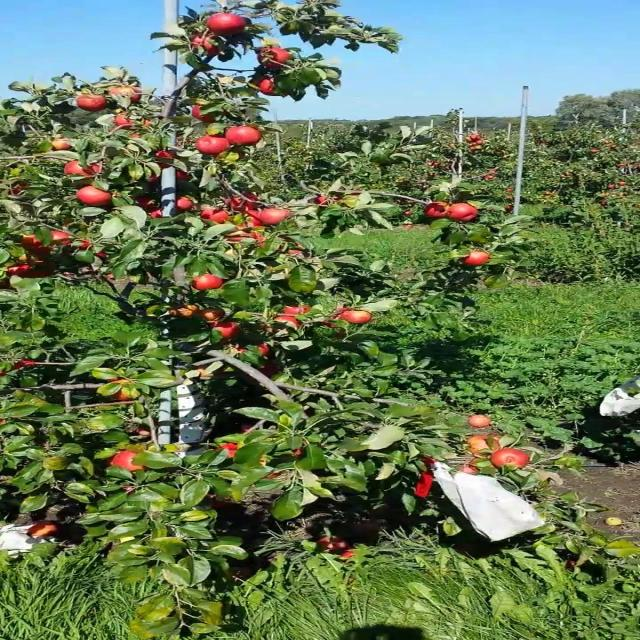apple: (207, 12, 247, 35), (256, 45, 291, 69), (467, 434, 504, 456), (489, 448, 529, 468), (224, 125, 262, 145), (109, 450, 144, 471), (196, 135, 231, 155), (76, 186, 111, 206), (224, 192, 258, 212), (20, 234, 53, 254), (251, 75, 282, 96), (224, 192, 258, 211), (191, 34, 220, 56), (447, 202, 478, 222), (64, 160, 102, 176), (258, 208, 291, 225), (109, 85, 142, 102), (27, 521, 60, 538), (76, 94, 107, 112), (251, 75, 278, 95), (191, 274, 224, 290), (213, 320, 240, 339), (240, 342, 271, 357), (27, 261, 56, 277), (278, 236, 302, 255), (424, 201, 449, 219), (191, 104, 216, 122), (198, 361, 224, 378), (200, 209, 229, 224), (340, 310, 371, 324), (462, 250, 489, 266), (273, 315, 302, 329), (169, 304, 200, 317), (133, 195, 158, 211), (7, 262, 33, 277), (156, 150, 176, 169), (198, 308, 224, 322), (258, 362, 282, 377), (113, 388, 140, 401), (224, 230, 251, 243), (467, 414, 491, 428), (244, 210, 262, 228), (218, 442, 238, 458), (113, 112, 133, 128), (340, 191, 360, 207), (176, 196, 196, 211), (51, 136, 71, 151), (460, 459, 480, 474), (282, 305, 311, 315), (52, 230, 71, 245), (9, 182, 29, 194), (244, 209, 260, 224), (249, 232, 264, 247), (73, 239, 93, 250), (333, 305, 349, 318), (258, 342, 271, 356), (322, 319, 340, 329), (313, 195, 329, 205), (106, 377, 130, 383), (176, 170, 189, 181), (284, 249, 304, 256), (149, 209, 162, 219), (147, 174, 160, 184), (93, 251, 109, 259), (291, 448, 304, 456)
